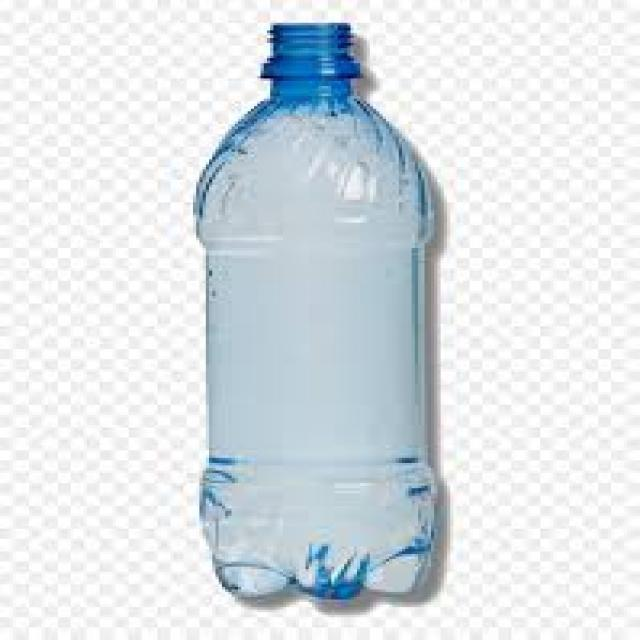Plastic: (192, 24, 447, 600)
